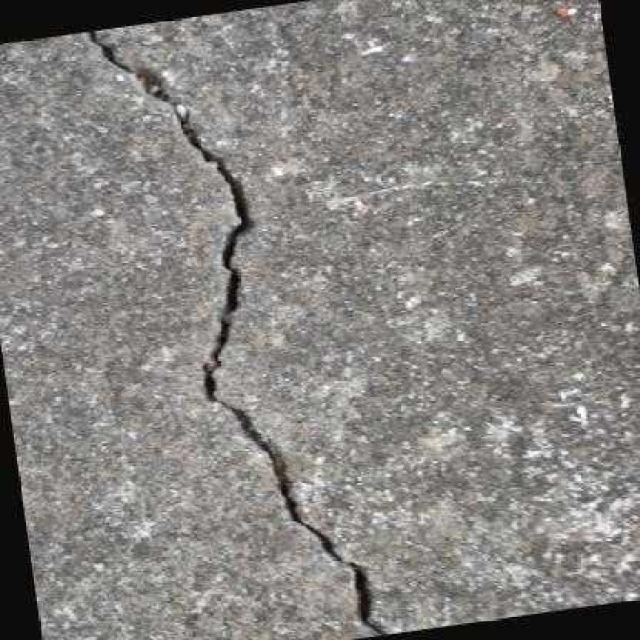D00: (88, 29, 386, 634)
